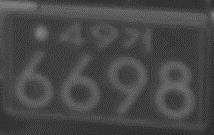4: (58, 21, 88, 48)
6: (58, 52, 101, 114), (14, 50, 54, 109)
8: (153, 58, 195, 121)
9: (105, 55, 148, 115), (89, 21, 118, 49)
거: (120, 25, 152, 52)
